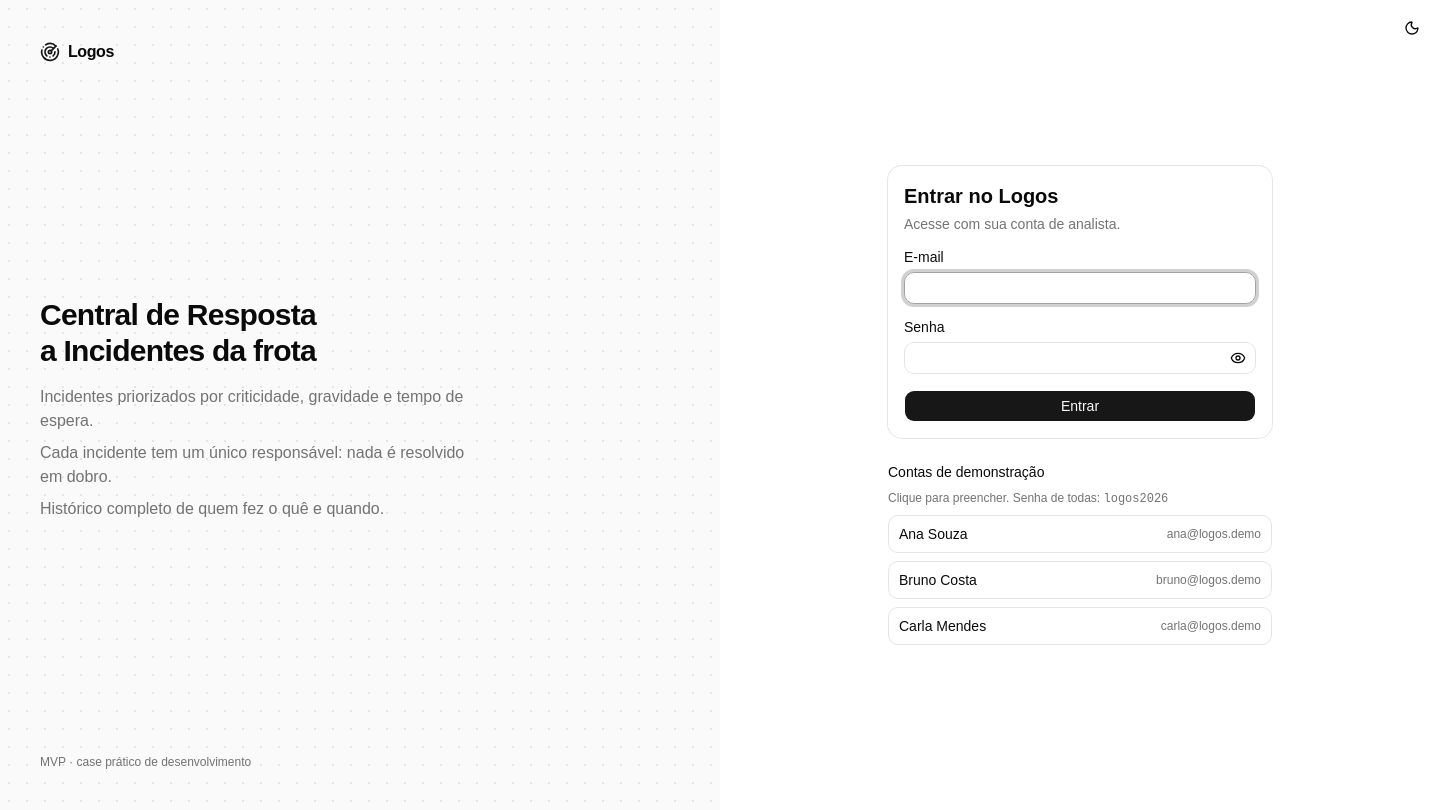
Scenario: tela de login › conta de demonstração preenche e-mail e senha com um clique
Click the button with aria-label "Preencher com Bruno Costa": coordinates (938, 580) x1=888 y1=560 x2=1272 y2=598
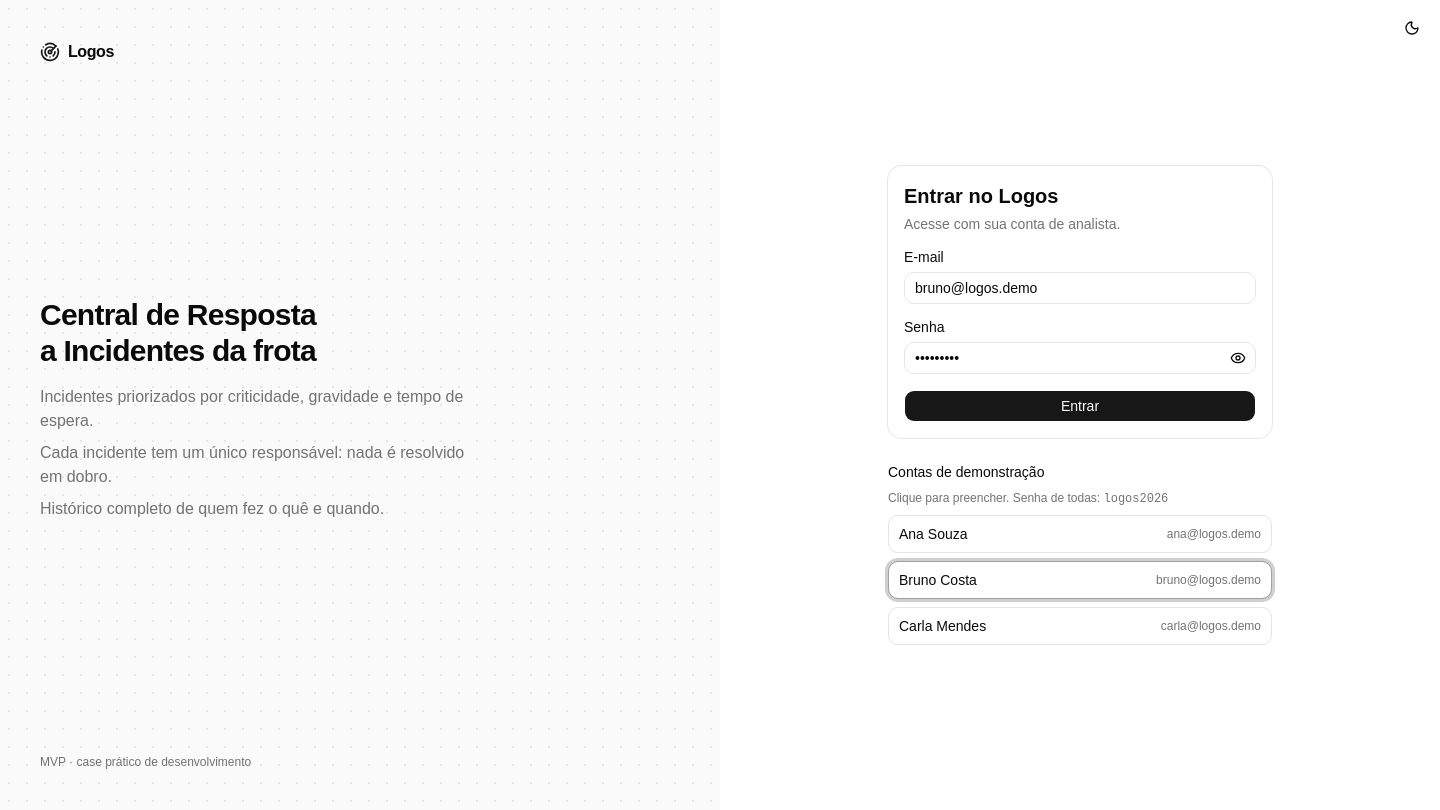
Now the field labelled "E-mail" holds "bruno@logos.demo", box x1=904 y1=272 x2=1256 y2=304
Now the password field labelled "Senha" holds "logos2026", box x1=904 y1=342 x2=1256 y2=374
